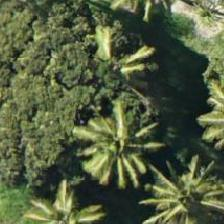coconut_tree: (73, 9, 163, 99), (76, 95, 166, 185), (144, 149, 223, 223), (19, 173, 109, 223)
